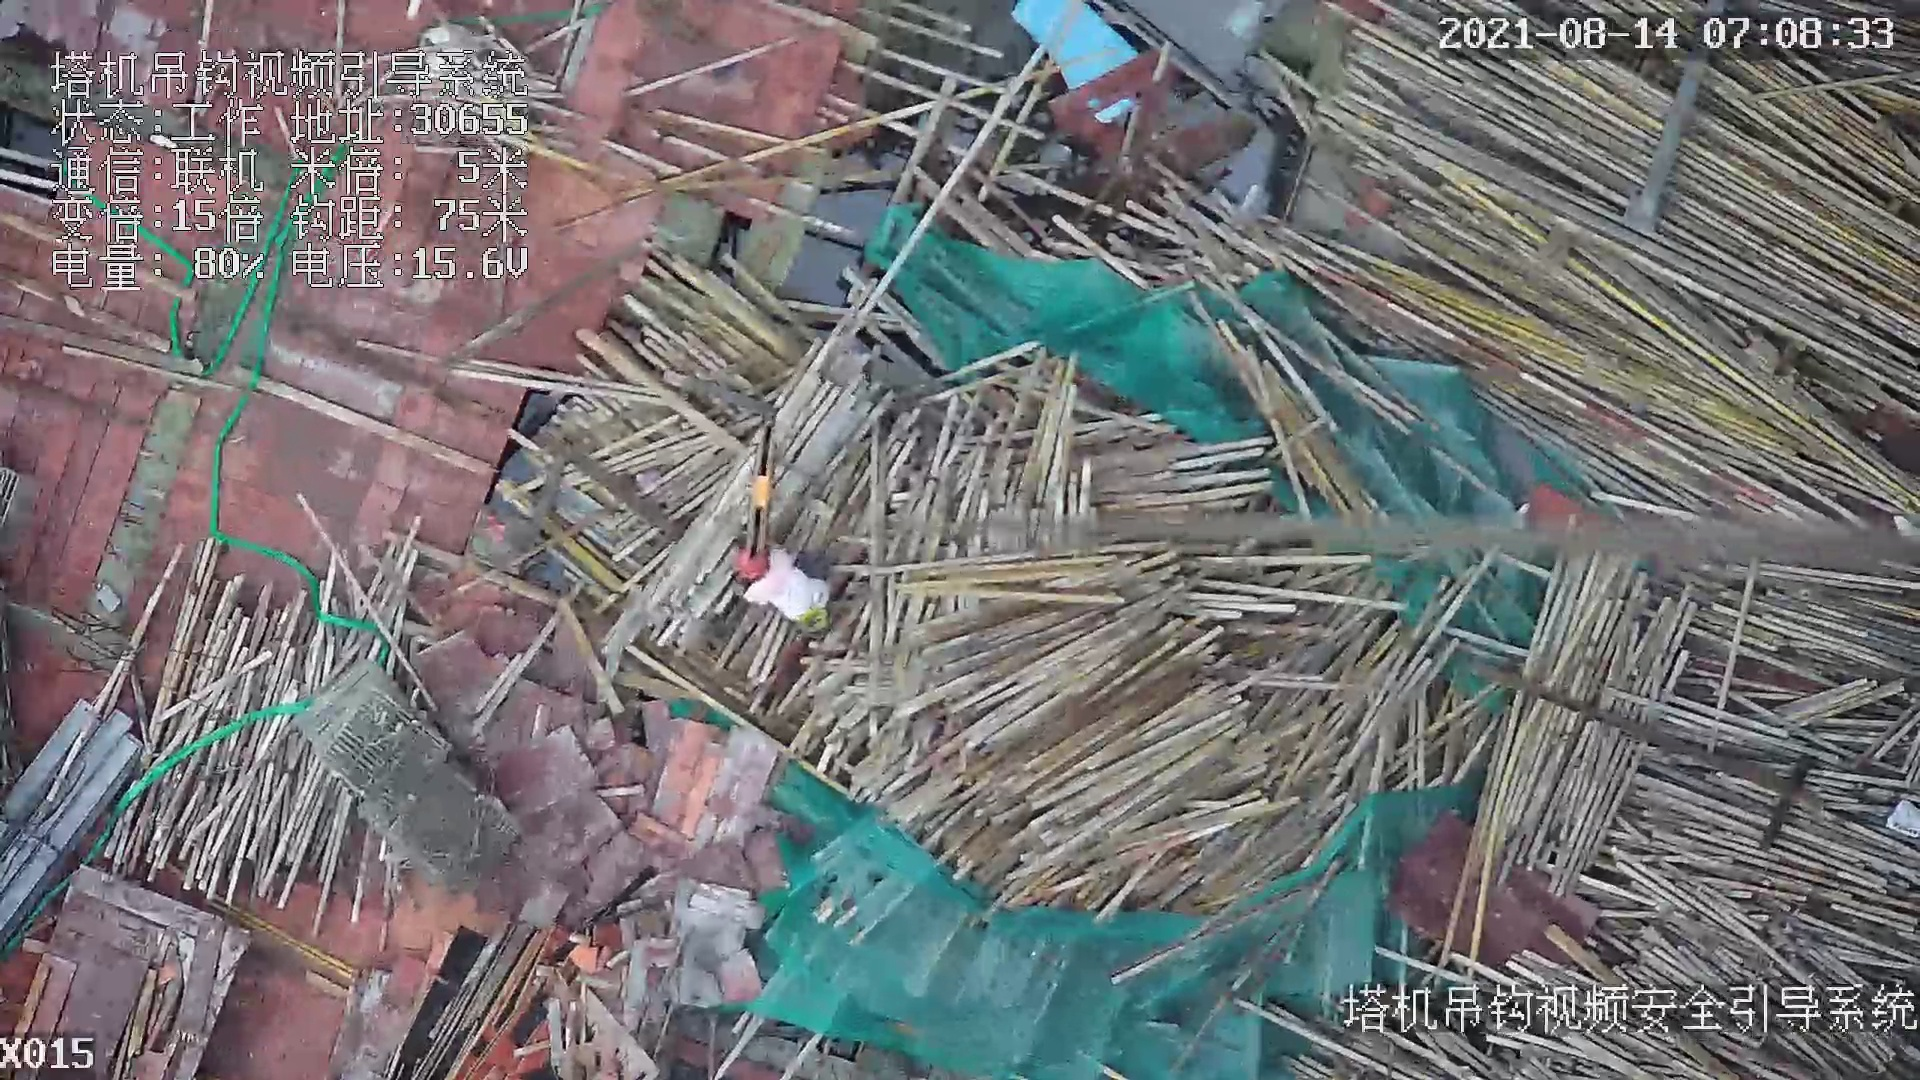hook: (738, 423, 782, 574)
person: (723, 546, 844, 627)
